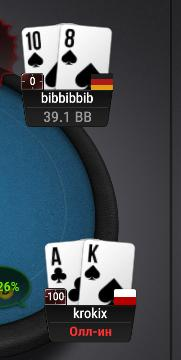10s: (21, 24, 60, 89)
8s: (58, 25, 112, 89)
Ac: (44, 241, 83, 305)
Ks: (83, 239, 135, 309)
